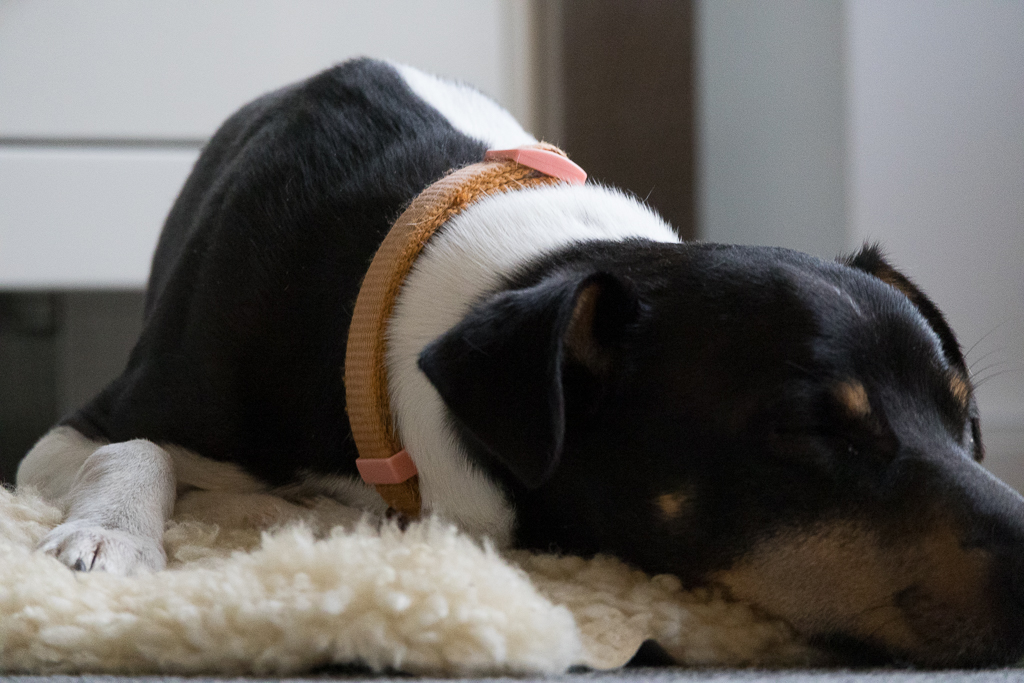Dog: (5, 46, 1024, 683)
